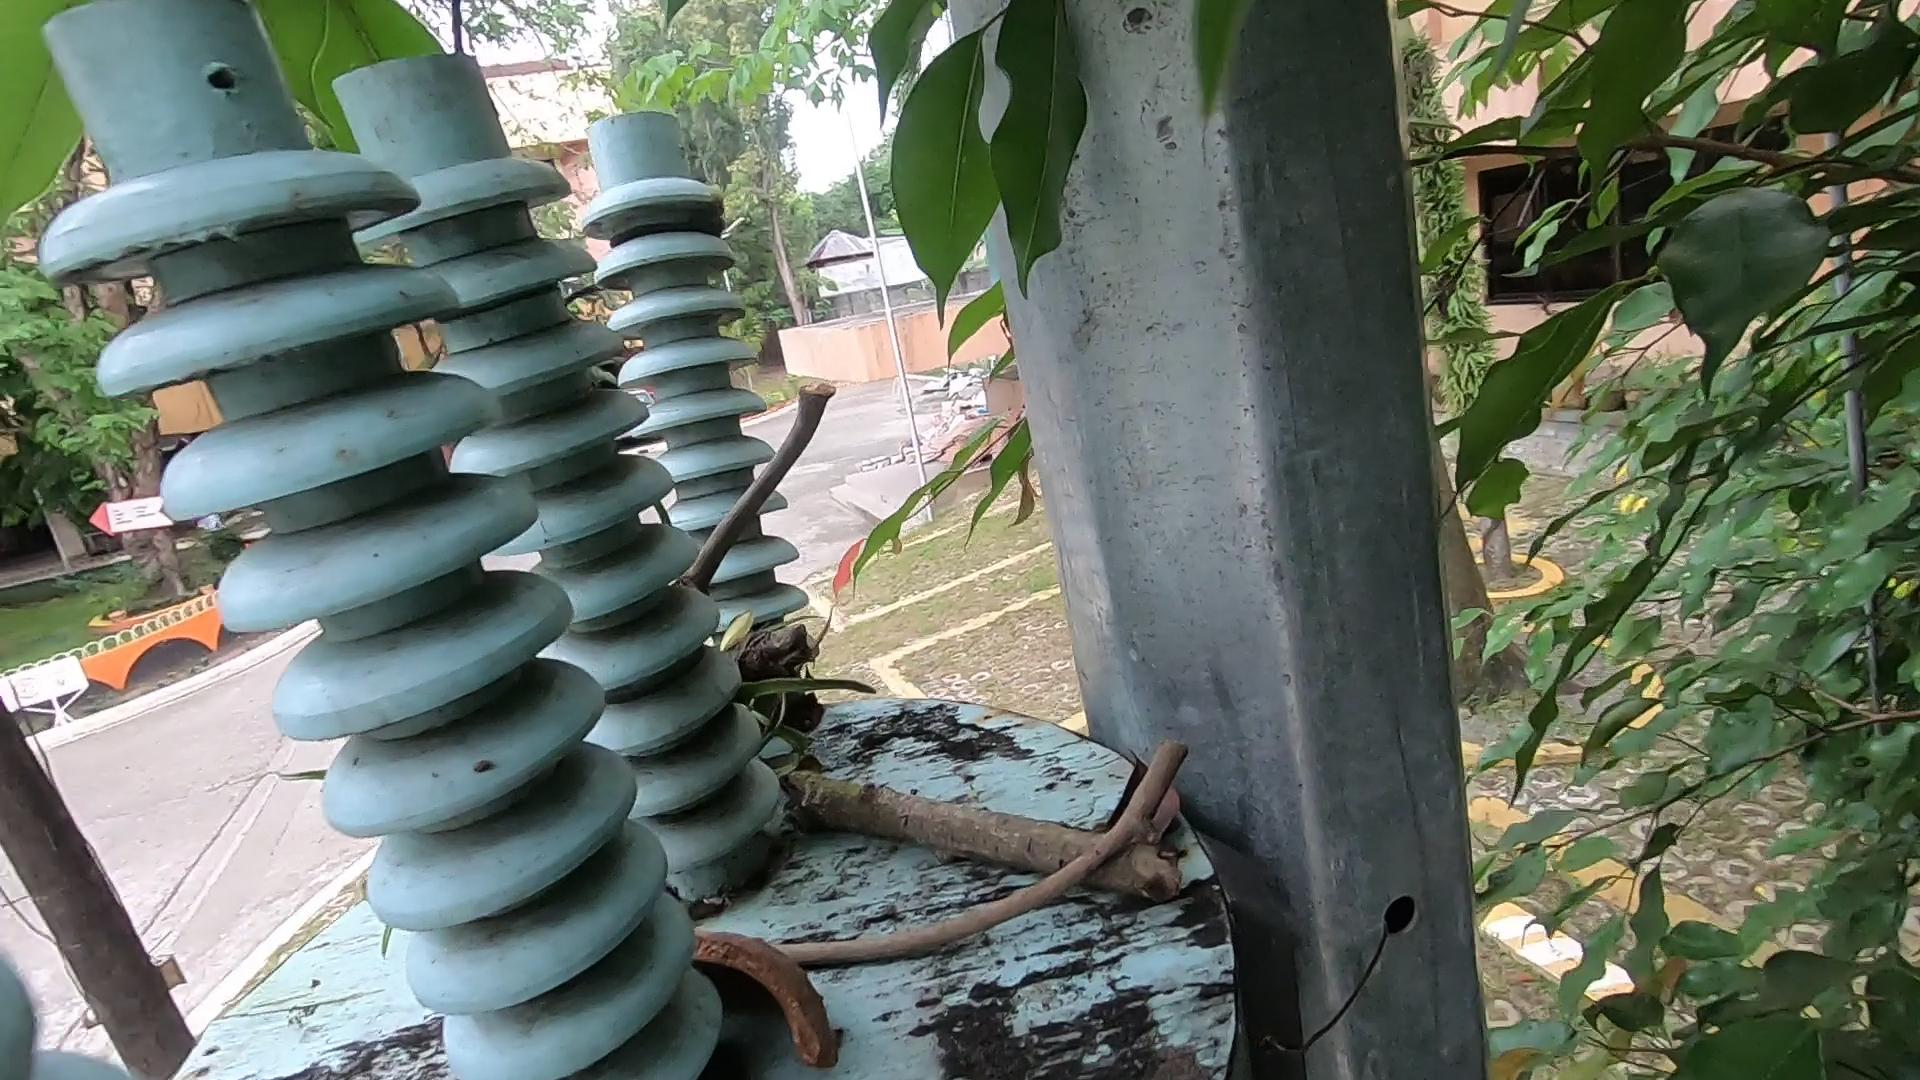branch with leaves: (680, 559, 1166, 895)
mahogany fruit: (645, 938, 856, 1073)
tree branch: (771, 715, 1211, 976), (702, 301, 870, 646)
